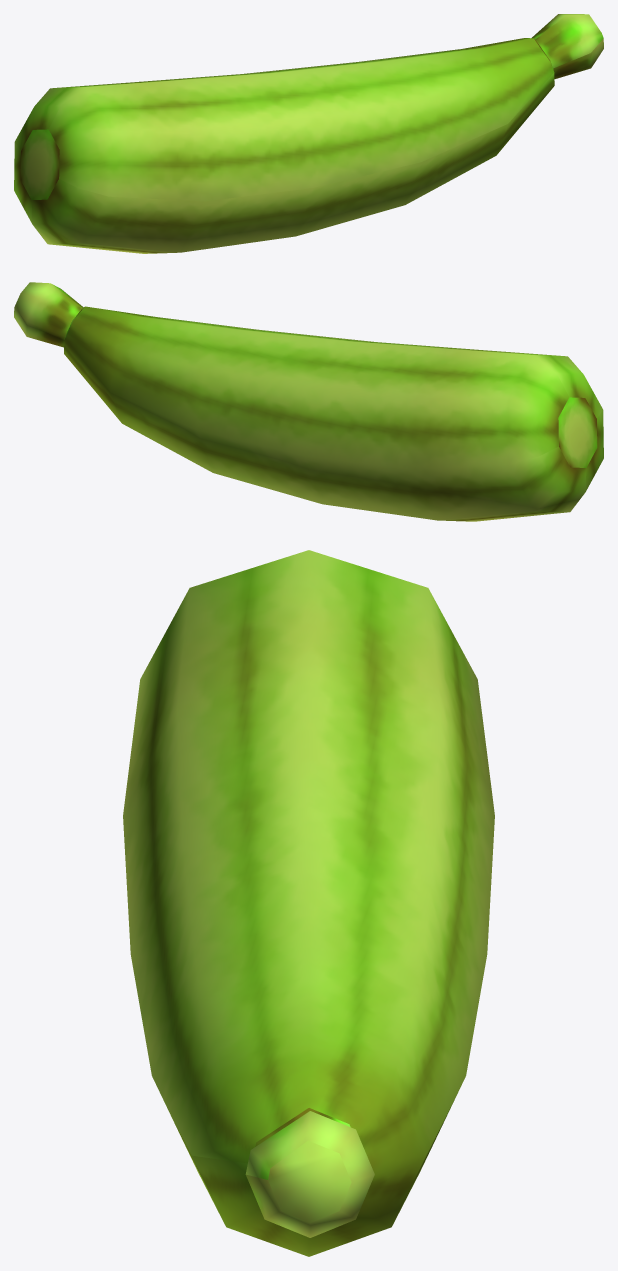
Rendered from Vegetables01_9.FBX.
3 renders of one model, top to bottom at view 1: azimuth 30°, elevation 25°; view 2: azimuth 150°, elevation 25°; view 3: azimuth 270°, elevation 25°, orthographic. The views are drawn at different scales.
Parts seen in each view (by area): view 1: Vegetables01_9; view 2: Vegetables01_9; view 3: Vegetables01_9.
Boxes of the visible parts, x1=… form: Vegetables01_9: x1=14, y1=14, x2=603, y2=253; Vegetables01_9: x1=14, y1=282, x2=603, y2=521; Vegetables01_9: x1=123, y1=550, x2=494, y2=1256.
Size of what is drawn, in the model's own units: 0.342 by 0.1115 by 0.0973.
